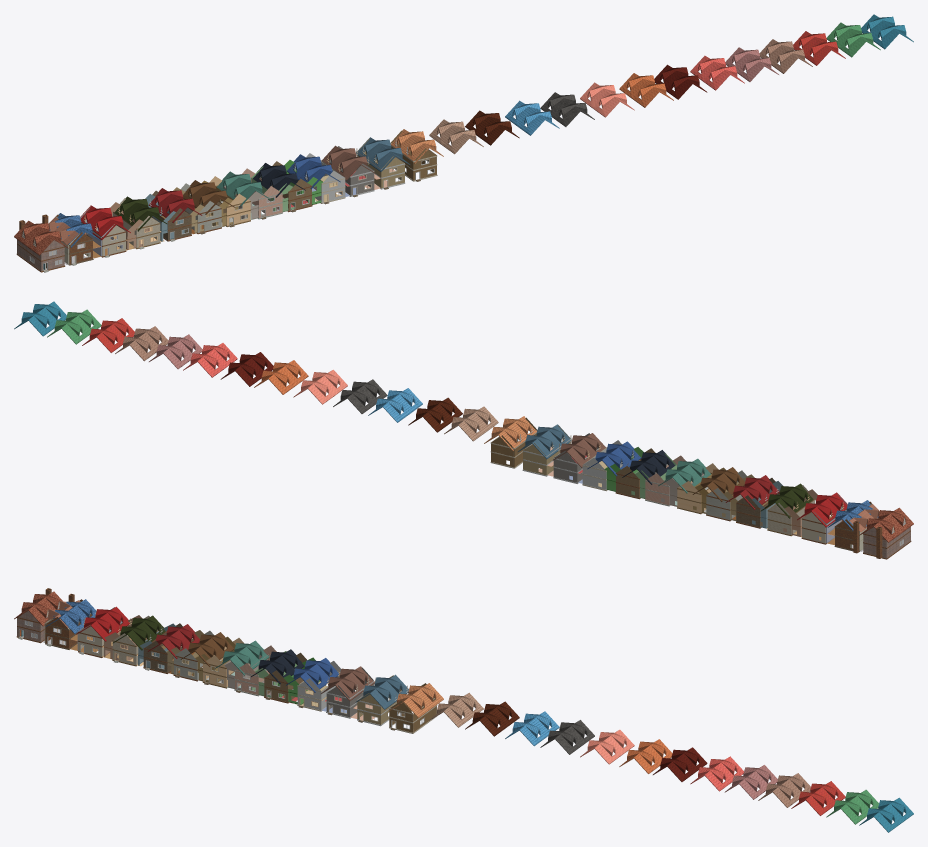
The model's file is House_003_Custom.fbx.
3 views of the same model, one above another, from view 1: azimuth 30°, elevation 25°; view 2: azimuth 150°, elevation 25°; view 3: azimuth 330°, elevation 25° (orthographic).
Visible parts, largest first — view 1: House_003_OutsideWalls_1, House_003_Roof_18, House_003_Roof_15, House_003_Roof_17, House_003_Roof_13, House_003_Roof_20, House_003_Roof_1, House_003_Roof_14, House_003_Roof_24, House_003_Roof_16, House_003_Roof_21, House_003_Roof_10 (+25 smaller); view 2: House_003_Roof_17, House_003_Roof_13, House_003_Roof_18, House_003_Roof_15, House_003_Roof_20, House_003_Roof_14, House_003_Roof_24, House_003_Roof_16, House_003_Roof_10, House_003_Roof_21, House_003_Roof_22, House_003_Roof_19 (+24 smaller); view 3: House_003_OutsideWalls_13, House_003_Roof_14, House_003_Roof_25, House_003_Roof_17, House_003_Roof_16, House_003_Roof_19, House_003_Roof_13, House_003_Roof_15, House_003_Roof_12, House_003_Roof_23, House_003_Roof_20, House_003_Roof_21 (+26 smaller).
Part boxes in pixels (left/top/right/bottom): House_003_OutsideWalls_1: left=16, top=233, right=65, bottom=272; House_003_Roof_18: left=619, top=73, right=673, bottom=107; House_003_Roof_15: left=505, top=100, right=559, bottom=135; House_003_Roof_17: left=580, top=82, right=634, bottom=117; House_003_Roof_13: left=429, top=119, right=483, bottom=154; House_003_Roof_20: left=690, top=55, right=744, bottom=90; House_003_Roof_1: left=14, top=220, right=68, bottom=255; House_003_Roof_14: left=465, top=110, right=519, bottom=145; House_003_Roof_24: left=826, top=22, right=880, bottom=57; House_003_Roof_16: left=540, top=92, right=594, bottom=126; House_003_Roof_21: left=725, top=47, right=778, bottom=81; House_003_Roof_10: left=356, top=137, right=410, bottom=171; House_003_Roof_17: left=293, top=369, right=347, bottom=404; House_003_Roof_13: left=444, top=406, right=498, bottom=441; House_003_Roof_18: left=254, top=360, right=308, bottom=394; House_003_Roof_15: left=368, top=388, right=422, bottom=422; House_003_Roof_20: left=183, top=343, right=237, bottom=377; House_003_Roof_14: left=408, top=397, right=462, bottom=432; House_003_Roof_24: left=47, top=309, right=101, bottom=344; House_003_Roof_16: left=333, top=379, right=387, bottom=413; House_003_Roof_10: left=518, top=424, right=571, bottom=459; House_003_Roof_21: left=149, top=334, right=202, bottom=369; House_003_Roof_22: left=115, top=326, right=168, bottom=361; House_003_Roof_19: left=220, top=352, right=273, bottom=386; House_003_OutsideWalls_13: left=389, top=683, right=437, bottom=733; House_003_Roof_14: left=465, top=701, right=519, bottom=736; House_003_Roof_25: left=859, top=797, right=913, bottom=832; House_003_Roof_17: left=580, top=729, right=634, bottom=764; House_003_Roof_16: left=540, top=720, right=594, bottom=754; House_003_Roof_19: left=653, top=747, right=707, bottom=781; House_003_Roof_13: left=429, top=692, right=483, bottom=727; House_003_Roof_15: left=505, top=711, right=559, bottom=746; House_003_Roof_12: left=389, top=683, right=443, bottom=717; House_003_Roof_23: left=791, top=781, right=845, bottom=815; House_003_Roof_20: left=690, top=756, right=743, bottom=791; House_003_Roof_21: left=724, top=765, right=777, bottom=799.
Bounding box in the file's own units: 14.54 × 0.4971 × 0.7958.
